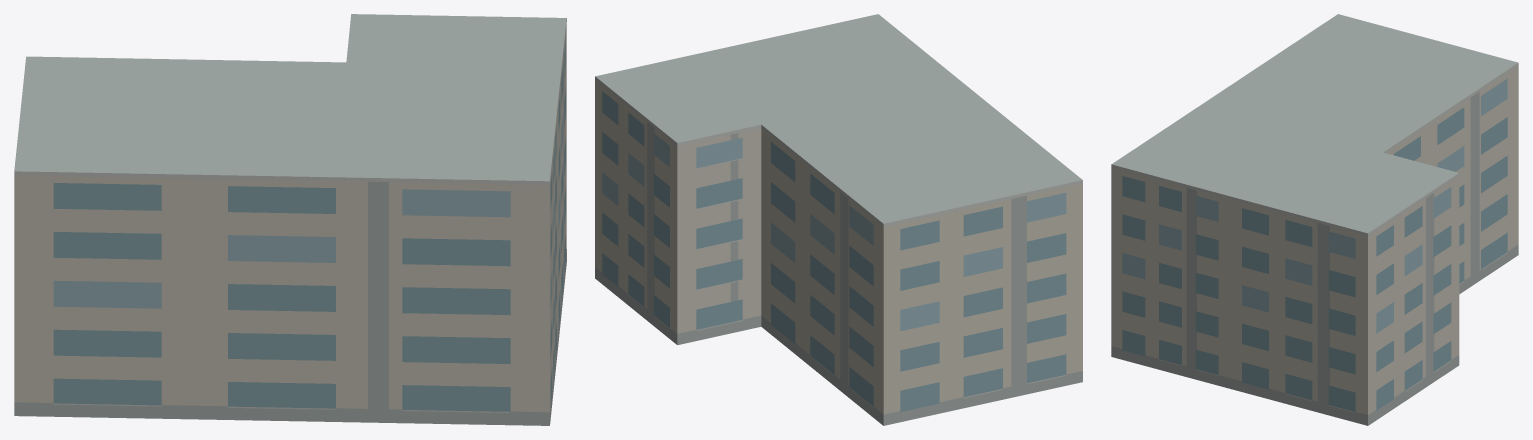
File: residential-abd1fcf2-2ad0-41ef-90fe-46188f728b40.glb
The picture shows the model from 3 angles, left to right: view 1: azimuth 30°, elevation 25°; view 2: azimuth 150°, elevation 25°; view 3: azimuth 270°, elevation 25°; orthographic projection. The views are drawn at different scales.
Parts seen in each view (by area): view 1: residential-abd1fcf2-2ad0-41ef-90fe-46188f728b40.tmp; view 2: residential-abd1fcf2-2ad0-41ef-90fe-46188f728b40.tmp; view 3: residential-abd1fcf2-2ad0-41ef-90fe-46188f728b40.tmp.
Part boxes in pixels (x1,y1,x2,y2): residential-abd1fcf2-2ad0-41ef-90fe-46188f728b40.tmp: [14, 14, 566, 425]; residential-abd1fcf2-2ad0-41ef-90fe-46188f728b40.tmp: [595, 14, 1082, 425]; residential-abd1fcf2-2ad0-41ef-90fe-46188f728b40.tmp: [1111, 14, 1518, 425].
Bounding box in the file's own units: 37.29 × 15.25 × 29.24.
